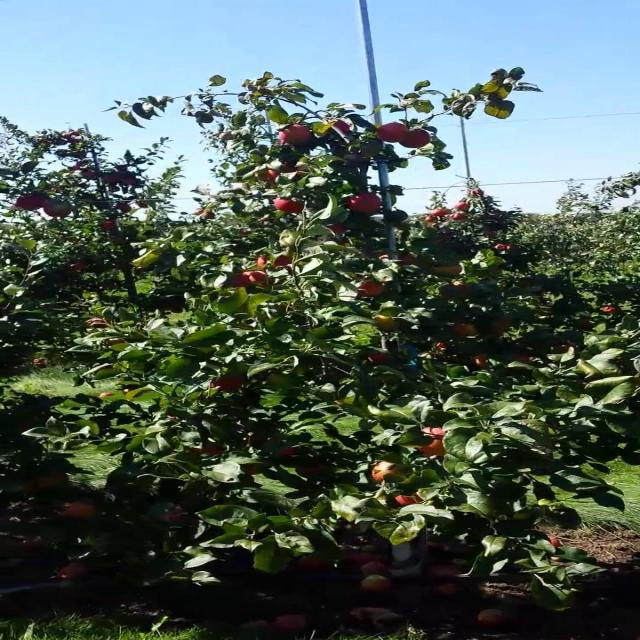apple: (256, 161, 298, 185), (418, 426, 447, 458), (347, 192, 382, 214), (278, 124, 313, 144), (60, 501, 98, 519), (296, 462, 333, 480), (233, 270, 269, 288), (378, 122, 409, 142), (371, 461, 400, 482), (400, 129, 431, 148), (33, 472, 67, 489), (440, 281, 473, 298), (209, 376, 244, 392), (42, 200, 73, 218), (16, 194, 49, 210), (256, 255, 291, 269), (267, 372, 296, 388), (489, 315, 511, 335), (429, 264, 462, 277), (373, 315, 398, 332), (256, 168, 280, 185), (273, 198, 302, 212), (451, 322, 478, 337), (358, 281, 384, 296), (189, 445, 224, 456), (393, 494, 422, 506), (289, 161, 307, 180), (367, 352, 391, 364), (331, 120, 351, 134), (84, 318, 109, 329), (327, 222, 349, 234), (507, 352, 530, 363), (398, 252, 416, 265), (473, 355, 489, 369), (278, 446, 298, 456), (102, 338, 127, 346), (578, 318, 596, 329), (242, 464, 258, 475), (436, 341, 449, 351), (378, 254, 391, 260)
